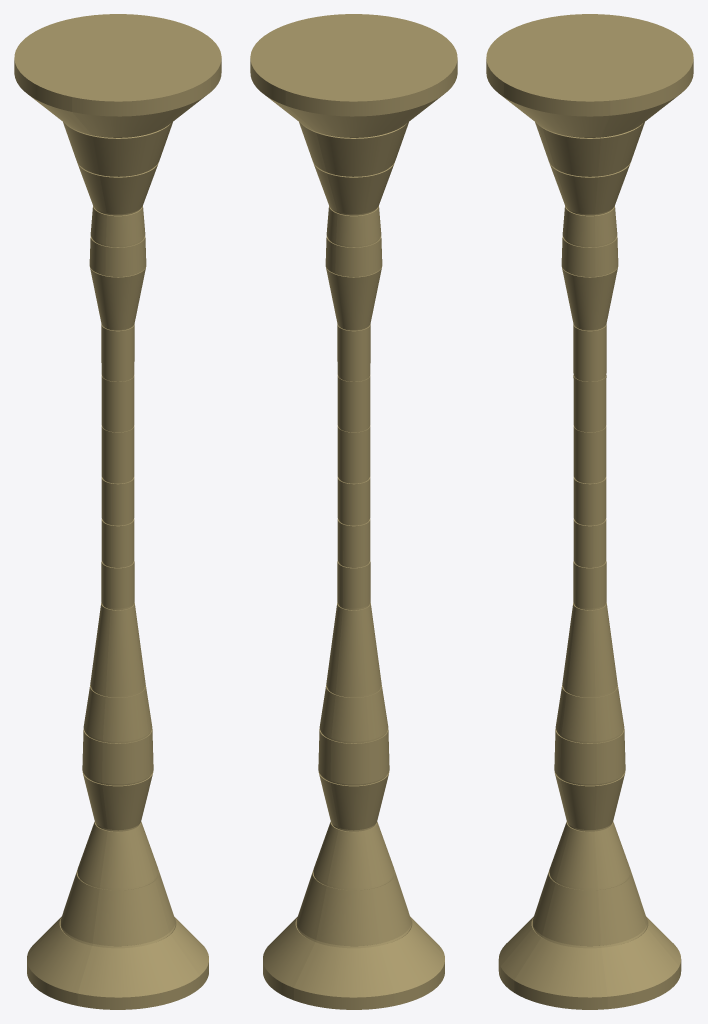
Rendered from SM_HeXin.fbx.
3 views of the same model, side by side, from view 1: azimuth 30°, elevation 25°; view 2: azimuth 150°, elevation 25°; view 3: azimuth 270°, elevation 25° (orthographic).
Parts seen in each view (by area): view 1: SM_HeXin; view 2: SM_HeXin; view 3: SM_HeXin.
Part boxes in pixels (bbox=[...]): SM_HeXin: bbox=[14, 14, 221, 1009]; SM_HeXin: bbox=[250, 14, 457, 1009]; SM_HeXin: bbox=[486, 14, 693, 1009].
Bounding box in the file's own units: 0.3677 × 1.79 × 0.3677.
